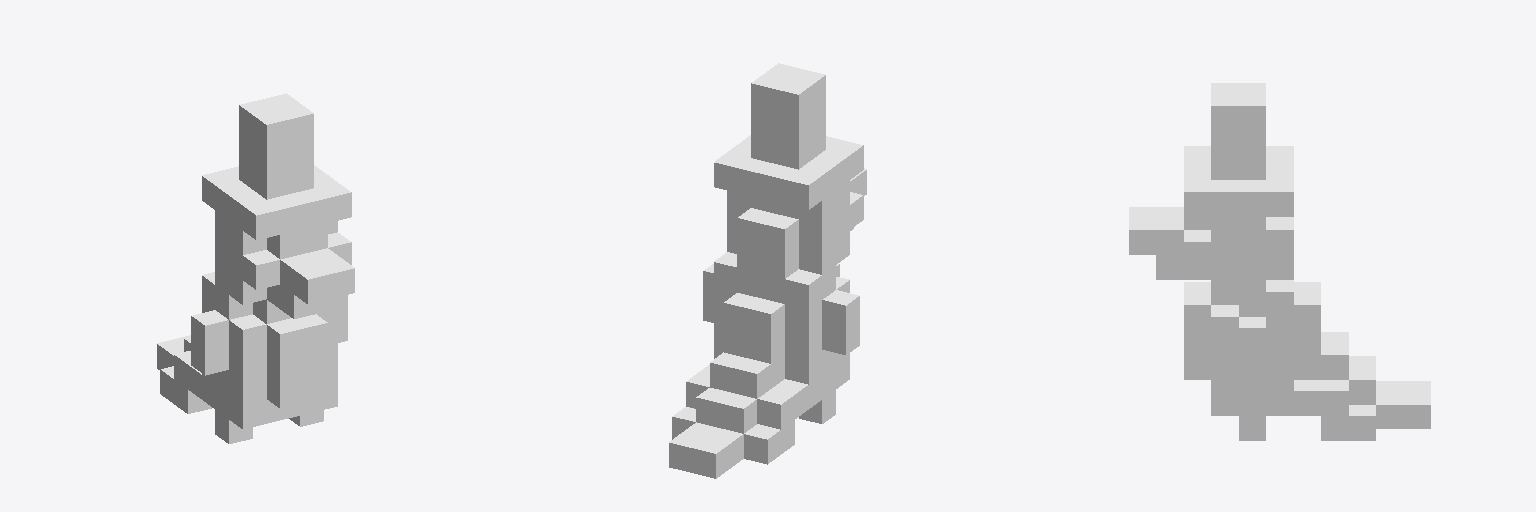
Rendered from CostymCroco.obj.
3 views of the same model, side by side, from view 1: azimuth 30°, elevation 25°; view 2: azimuth 150°, elevation 25°; view 3: azimuth 270°, elevation 25° (orthographic).
Visible parts, largest first — view 1: object 1; view 2: object 1; view 3: object 1.
Boxes of the visible parts, x1,y1,x2,y2 form: object 1: [157, 93, 354, 443]; object 1: [669, 63, 866, 478]; object 1: [1129, 83, 1430, 440].
Size of the model in its own units: 0.6 by 1.3 by 1.1.